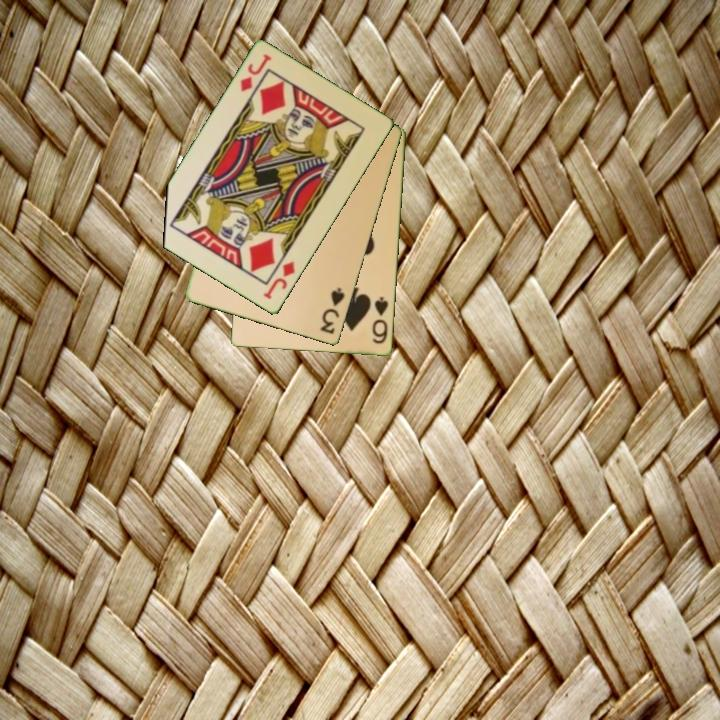3s: (317, 284, 348, 337)
6s: (369, 294, 391, 347)
Jd: (260, 258, 298, 303), (237, 51, 274, 95)
